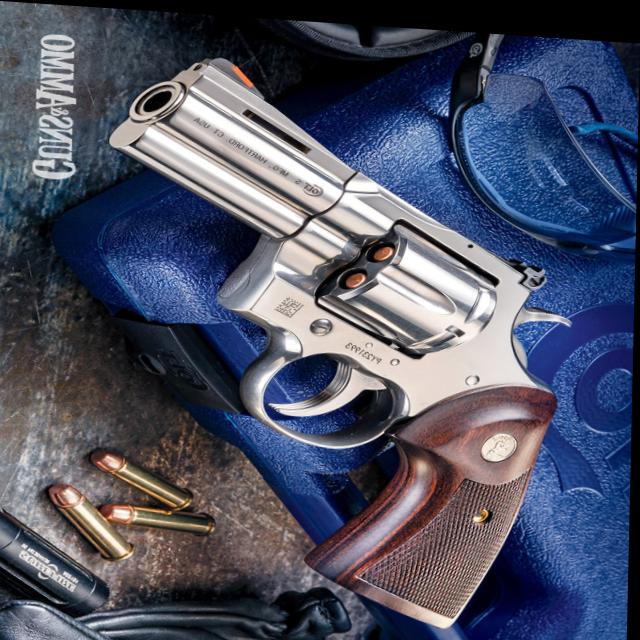handgun: (90, 31, 584, 635)
